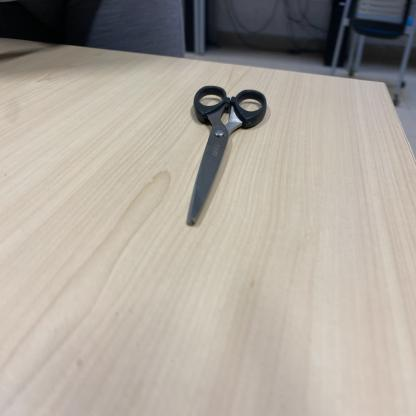scissors: (186, 86, 267, 227)
